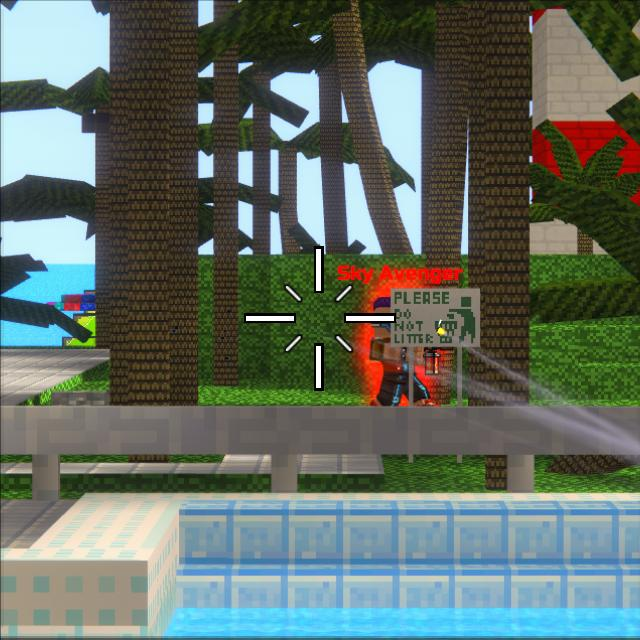Enemy: (366, 297, 431, 409)
